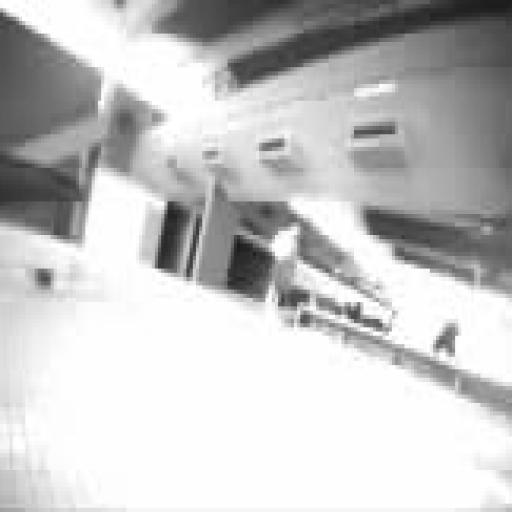human: (266, 223, 300, 310), (433, 324, 458, 356)
